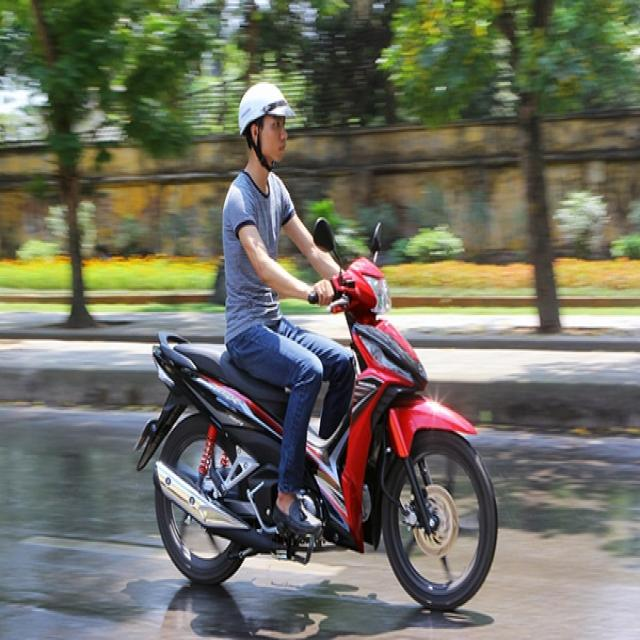helmet: (237, 82, 297, 135)
